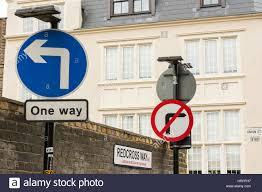no_right_turn: (149, 98, 192, 141)
